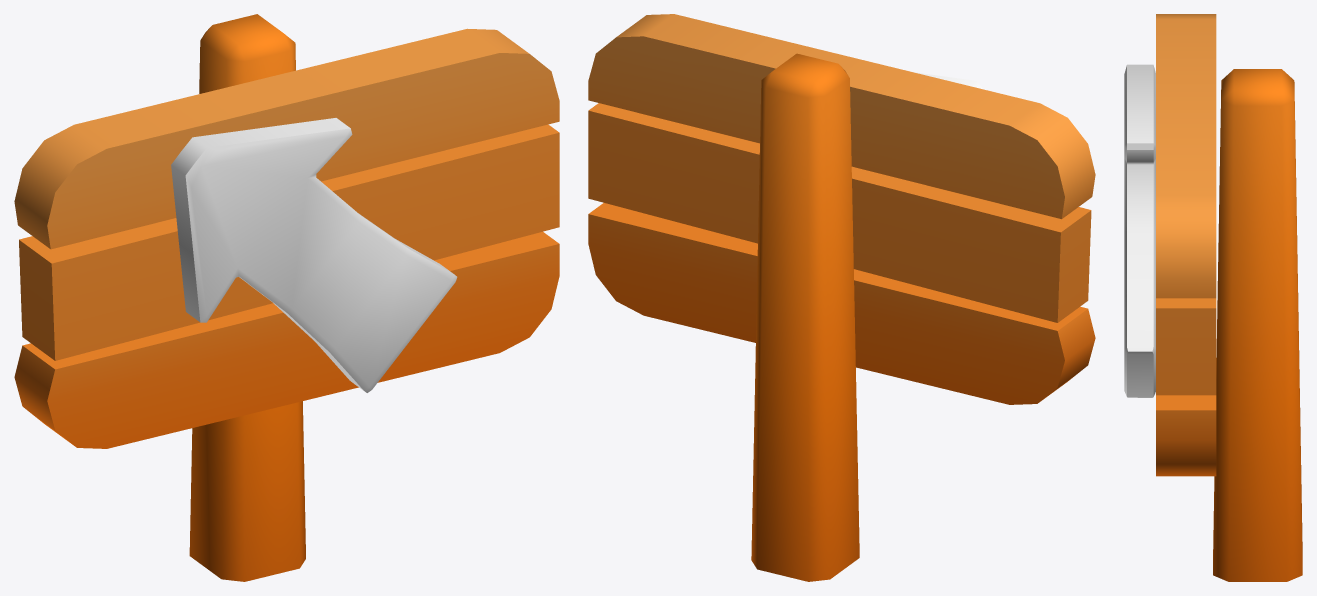
File: Prop_Wooden_Sign_05.fbx
3 views of the same model, side by side, from view 1: azimuth 30°, elevation 25°; view 2: azimuth 150°, elevation 25°; view 3: azimuth 270°, elevation 25° (orthographic). The views are drawn at different scales.
Visible parts, largest first — view 1: Prop_Wooden_Sign_05; view 2: Prop_Wooden_Sign_05; view 3: Prop_Wooden_Sign_05.
Part boxes in pixels (left/top/right/bottom): Prop_Wooden_Sign_05: left=14, top=14, right=559, bottom=581; Prop_Wooden_Sign_05: left=588, top=14, right=1095, bottom=581; Prop_Wooden_Sign_05: left=1124, top=14, right=1302, bottom=581.
Size of the model in its own units: 90.11 by 88.8 by 29.65.
